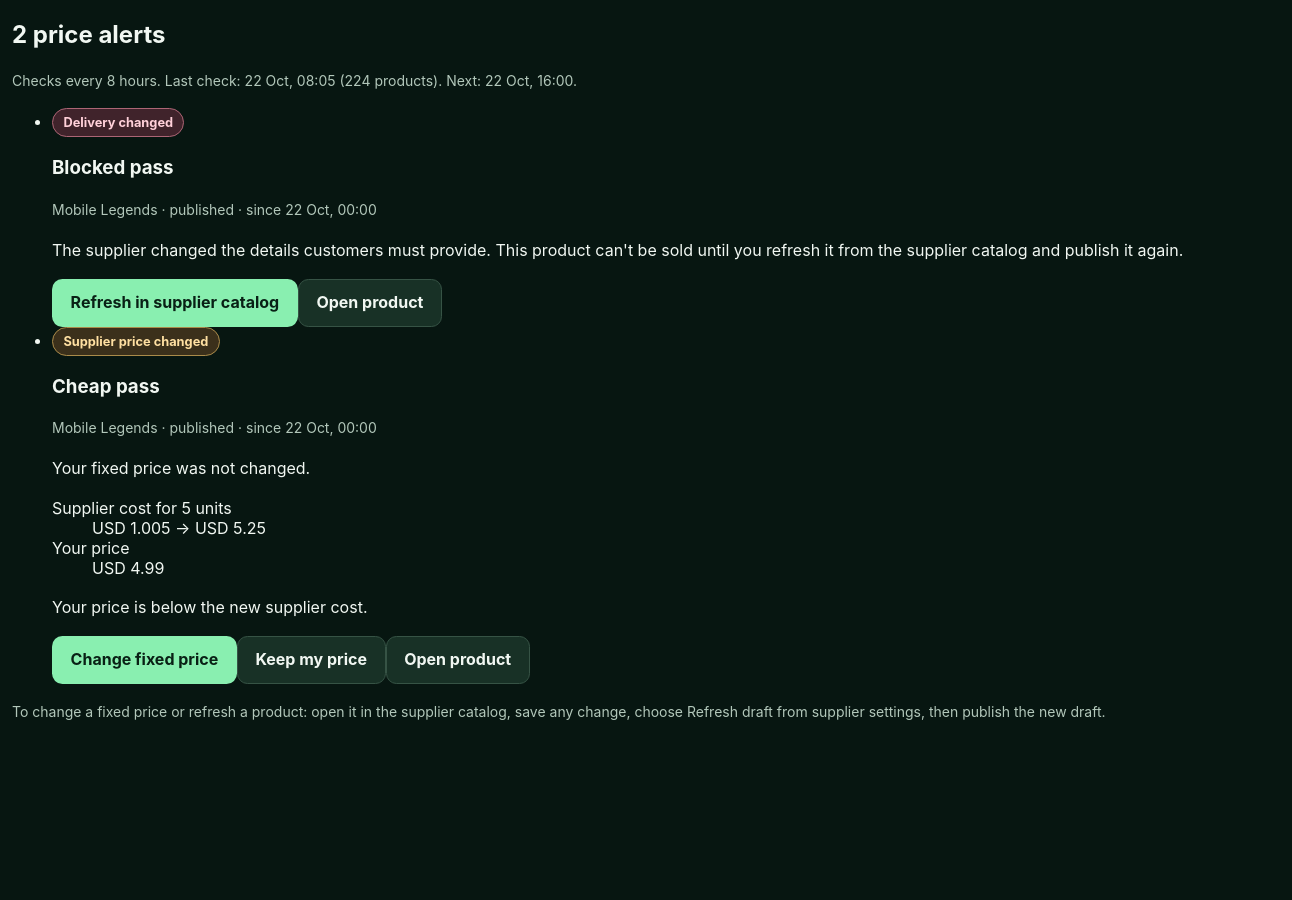
Test: leads with blocking alerts and keeps a fixed price after review
Expected: the heading "2 price alerts" is shown, [12, 20, 166, 49]
Expected: the headings read "Blocked pass", "Cheap pass", in this order, [52, 156, 174, 179]; [52, 374, 160, 398]
Step 1. Click the button "Keep my price" → (311, 660), box [237, 636, 386, 684]
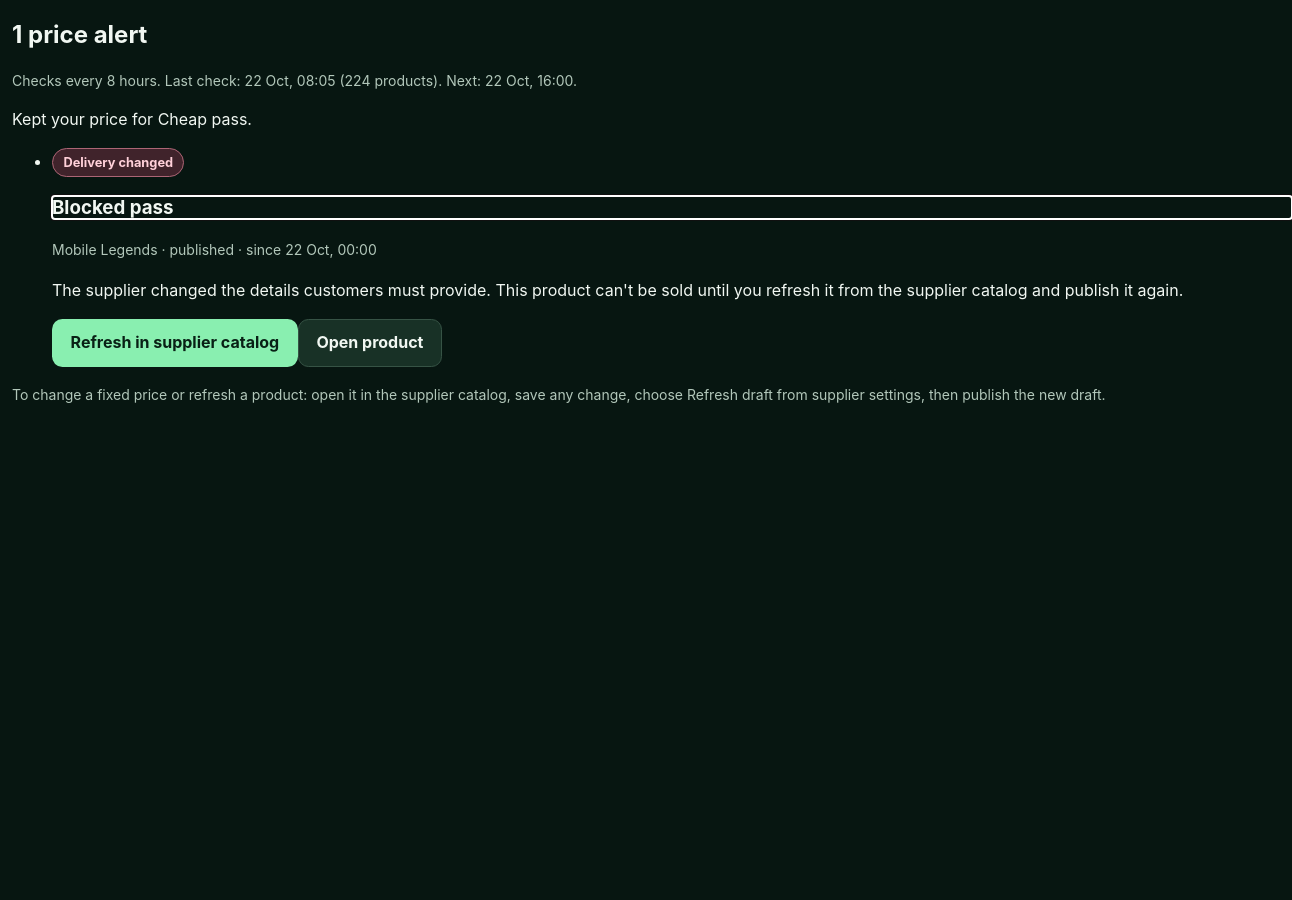
Result: the text "Kept your price for Cheap pass." is shown at [12, 109, 252, 129]
Result: the heading "1 price alert" is shown at [12, 20, 147, 49]
